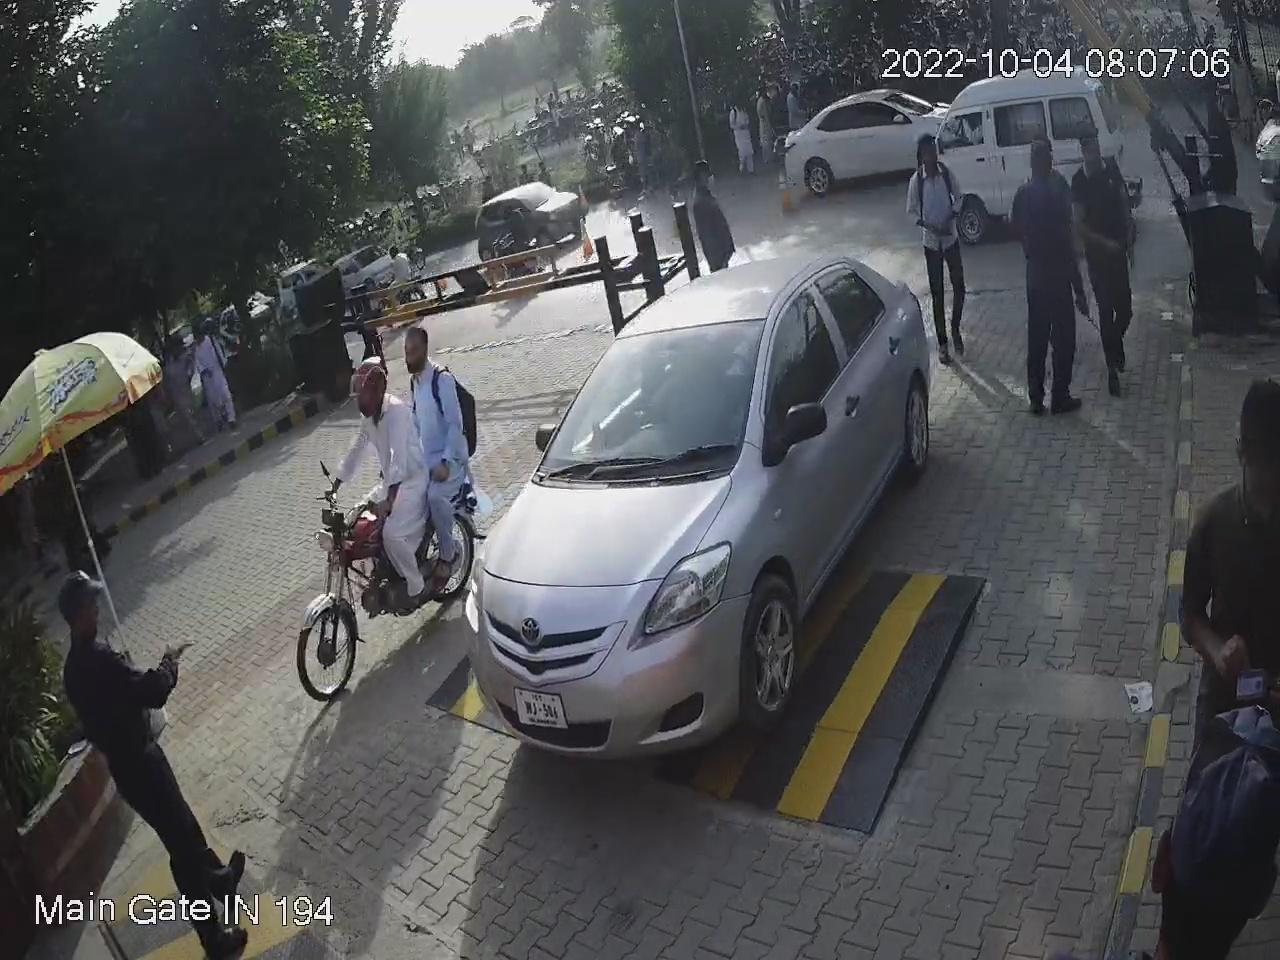windshield: (533, 313, 768, 478)
